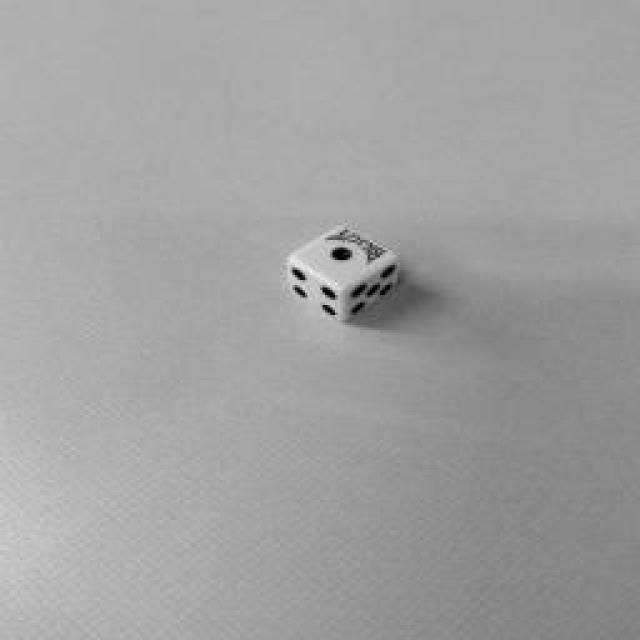dice_1: (290, 225, 398, 290)
